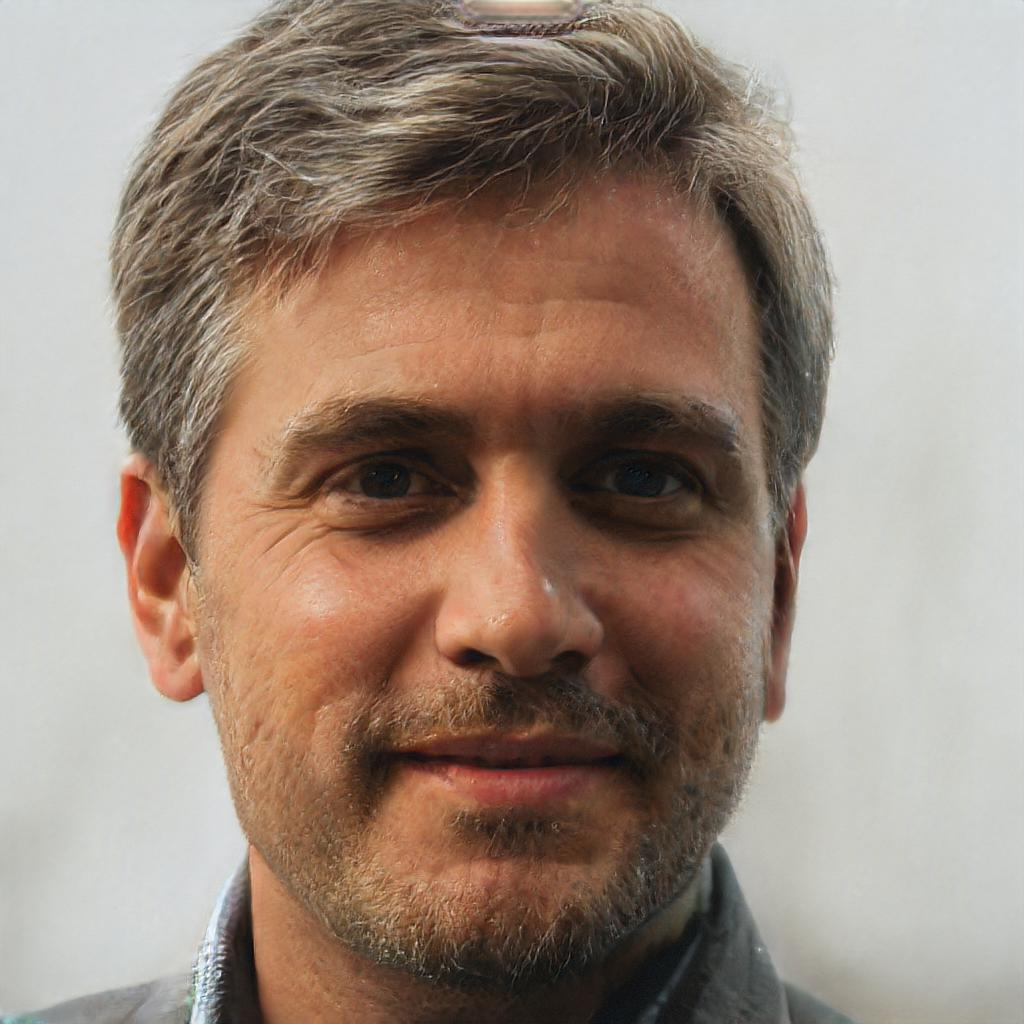face: (200, 174, 774, 985)
